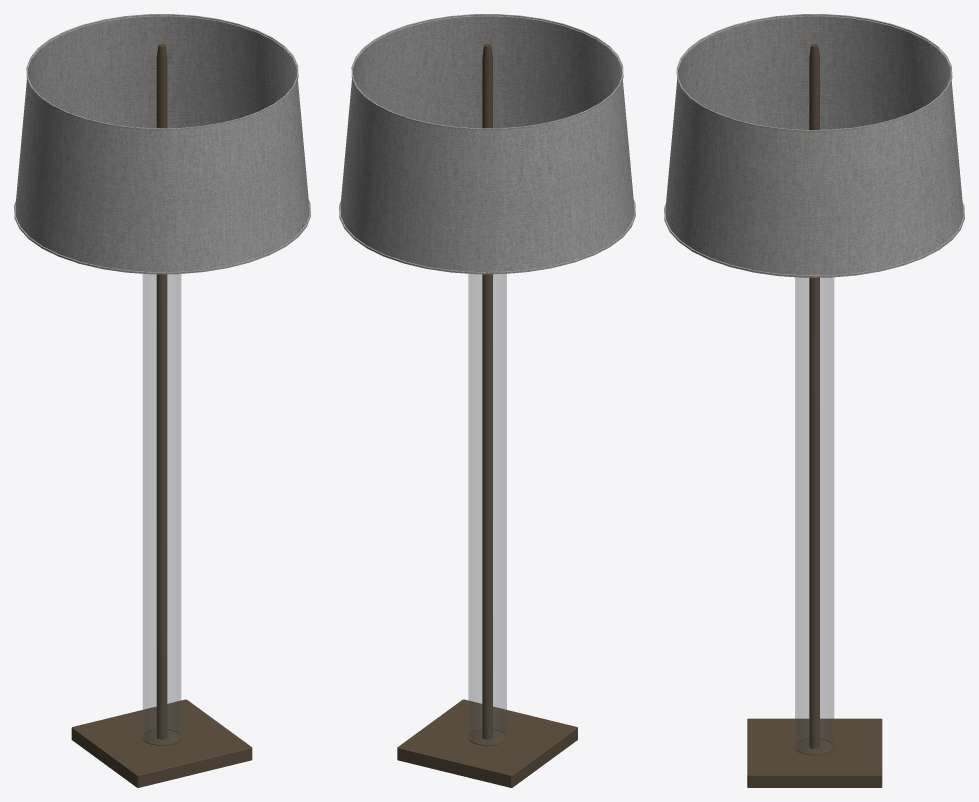
Rendered from CGT_FloorLamp_009.glb.
3 views of the same model, side by side, from view 1: azimuth 30°, elevation 25°; view 2: azimuth 150°, elevation 25°; view 3: azimuth 270°, elevation 25° (orthographic).
Visible parts, largest first — view 1: CGT_FloorLamp_009; view 2: CGT_FloorLamp_009; view 3: CGT_FloorLamp_009.
Boxes of the visible parts, bbox=[...] form: CGT_FloorLamp_009: bbox=[14, 14, 310, 787]; CGT_FloorLamp_009: bbox=[339, 14, 635, 787]; CGT_FloorLamp_009: bbox=[664, 14, 964, 787].
Bounding box in the file's own units: 0.7823 × 2.05 × 0.7823.
Materials: 3 (1 with a texture image).
